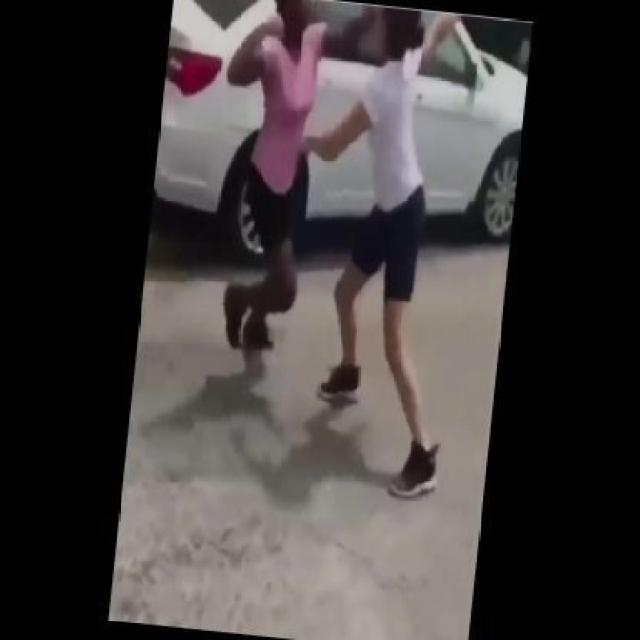fight: (132, 0, 492, 518)
